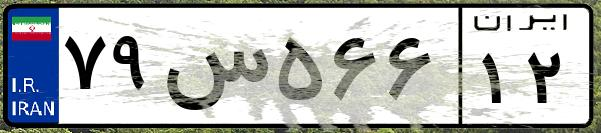1: (475, 38, 525, 113)
2: (525, 38, 570, 115)
5: (270, 28, 330, 110)
6: (385, 28, 445, 110), (330, 28, 385, 110)
7: (57, 26, 110, 100)
9: (110, 28, 158, 98)
س: (158, 20, 270, 120)
